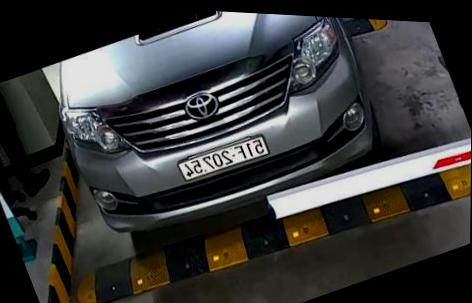License_Plate: (172, 126, 271, 190)
